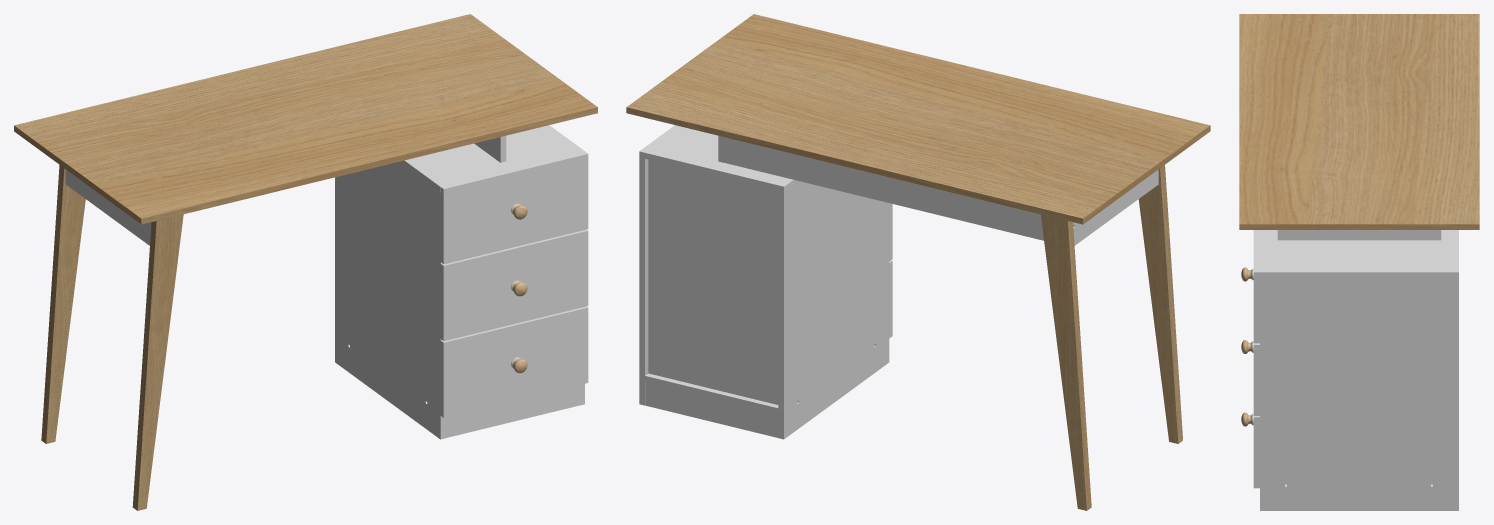
3 renders of one model, left to right at view 1: azimuth 30°, elevation 25°; view 2: azimuth 150°, elevation 25°; view 3: azimuth 270°, elevation 25°, orthographic. The views are drawn at different scales.
Visible parts, largest first — view 1: A234094-TAPASXXXTA, Simetruc801234094-COSTADOSCO, A234094-FRENTESXCA, A234094-FRENTESXCA002, A234094-FRENTESXCA001, Pata 741, Pata 744, A234094-TAPASXXXEN, A234094-ZOCALOSXZO, A234094-SEPDORESSE001; view 2: A234094-TAPASXXXTA, A234094-FONDOSXXMU, Simetruc801234094-COSTADOSCO, A234094-FONDOSXXFA, Pata 744, Pata 741, A234094-TAPASXXXEN, A234094-ZOCALOSXZO001, A234094-COSTADOSCO, A234094-SEPDORESSE001, A234094-PISOSXXXPI; view 3: A234094-TAPASXXXTA, A234094-COSTADOSCO, A234094-TAPASXXXEN, A234094-SEPDORESSE, A234094-FRENTESXCA, A234094-FRENTESXCA001, A234094-FRENTESXCA002.
Boxes of the visible parts, x1,y1,x2,y2 form: A234094-TAPASXXXTA: (14, 14, 597, 224); Simetruc801234094-COSTADOSCO: (335, 162, 446, 439); A234094-FRENTESXCA: (440, 151, 588, 264); A234094-FRENTESXCA002: (440, 306, 588, 417); A234094-FRENTESXCA001: (440, 229, 588, 340); Pata 741: (132, 214, 183, 510); Pata 744: (41, 165, 85, 443); A234094-TAPASXXXEN: (399, 125, 584, 192); A234094-ZOCALOSXZO: (446, 385, 579, 437); A234094-SEPDORESSE001: (65, 169, 151, 245); A234094-TAPASXXXTA: (626, 14, 1210, 224); A234094-FONDOSXXMU: (648, 159, 778, 404); Simetruc801234094-COSTADOSCO: (778, 181, 889, 439); A234094-FONDOSXXFA: (724, 137, 1043, 240); Pata 744: (1041, 214, 1091, 510); Pata 741: (1138, 165, 1182, 443); A234094-TAPASXXXEN: (639, 125, 799, 192); A234094-ZOCALOSXZO001: (645, 382, 778, 437); A234094-COSTADOSCO: (639, 157, 648, 405); A234094-SEPDORESSE001: (1073, 169, 1158, 245); A234094-PISOSXXXPI: (645, 373, 778, 413); A234094-TAPASXXXTA: (1239, 14, 1479, 229); A234094-COSTADOSCO: (1260, 278, 1458, 510); A234094-TAPASXXXEN: (1260, 230, 1458, 277); A234094-SEPDORESSE: (1277, 230, 1441, 240); A234094-FRENTESXCA: (1253, 230, 1259, 343); A234094-FRENTESXCA001: (1253, 343, 1259, 415); A234094-FRENTESXCA002: (1253, 416, 1259, 488).
Bounding box in the file's own units: 1.2 × 0.77 × 0.58.
Materials: 1 (1 with a texture image).
